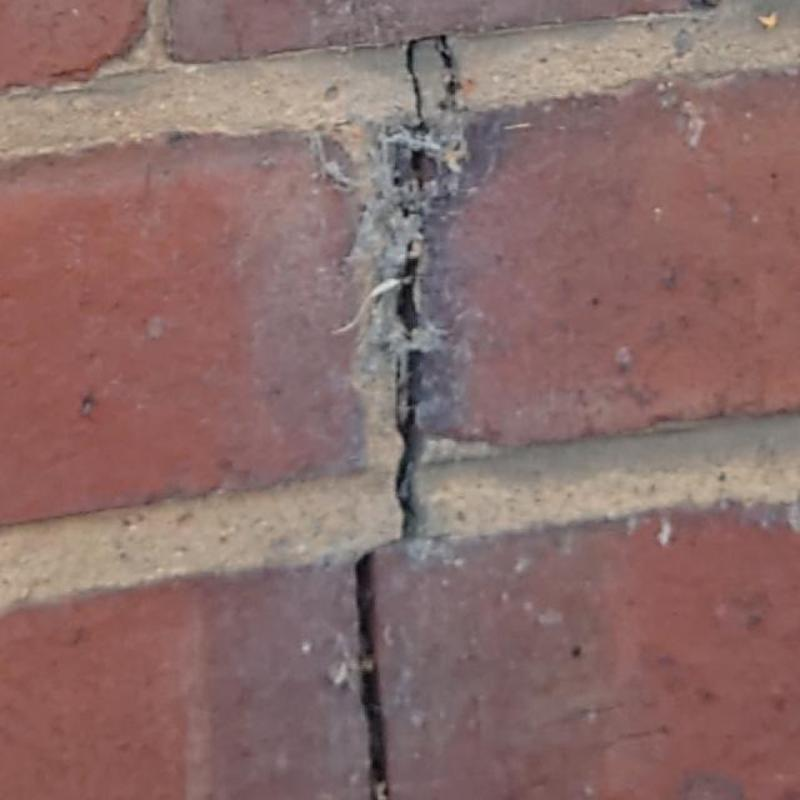pothole: (384, 38, 464, 535), (355, 553, 388, 799), (365, 532, 409, 554)
